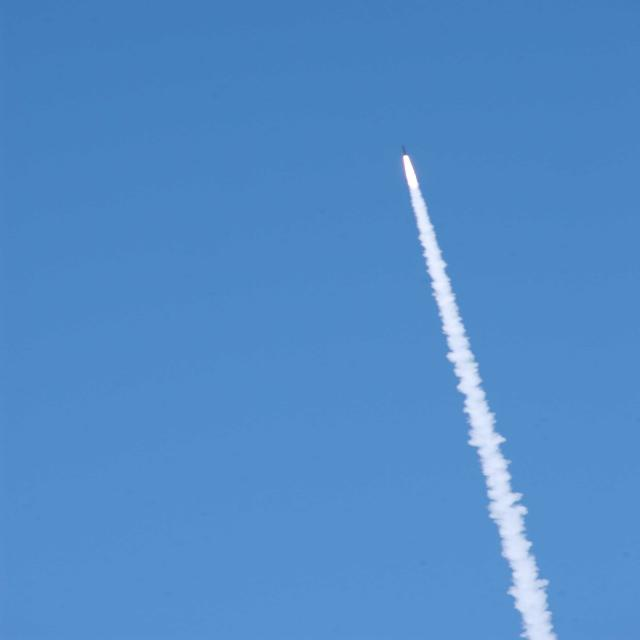missile: (400, 143, 410, 157)
